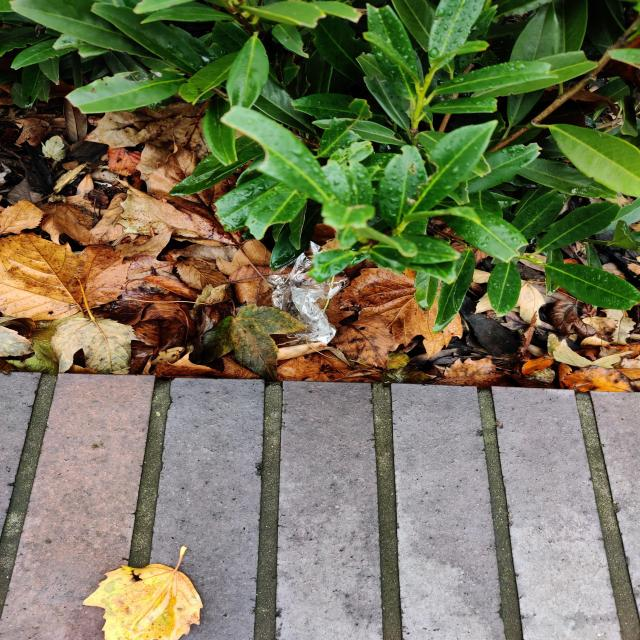litter: (263, 243, 346, 355)
